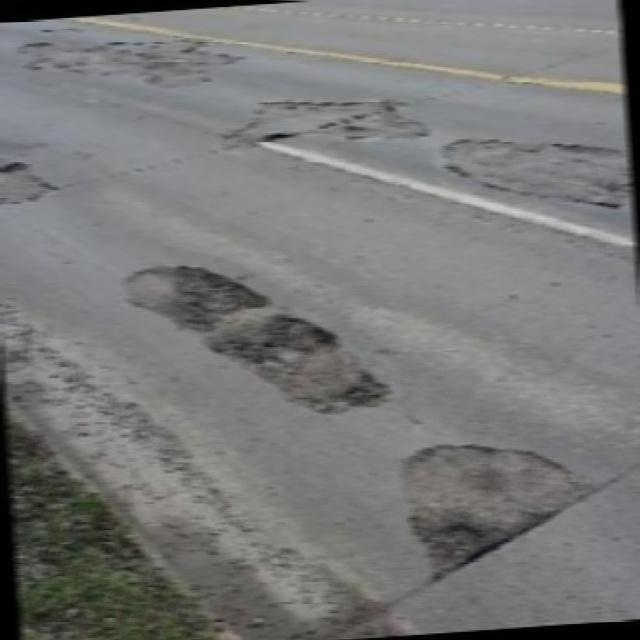Pothole: (99, 252, 392, 415), (387, 432, 604, 588), (426, 120, 640, 212), (199, 86, 433, 162), (5, 25, 256, 89), (0, 146, 67, 216)
